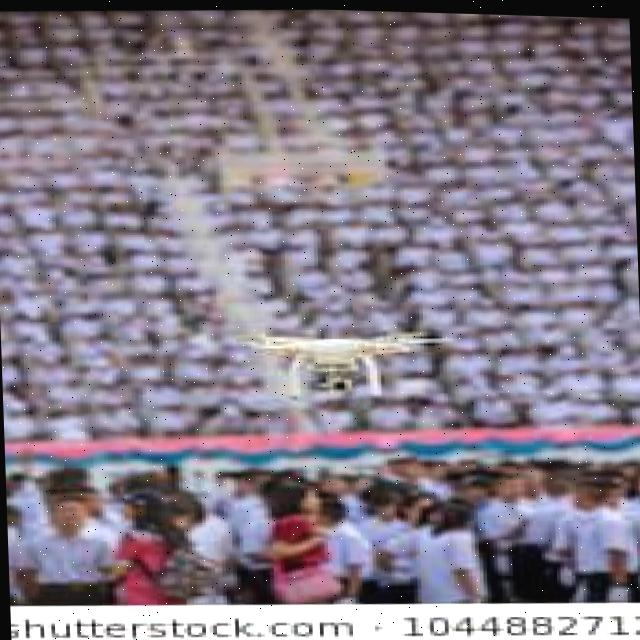drone: (222, 290, 473, 424)
